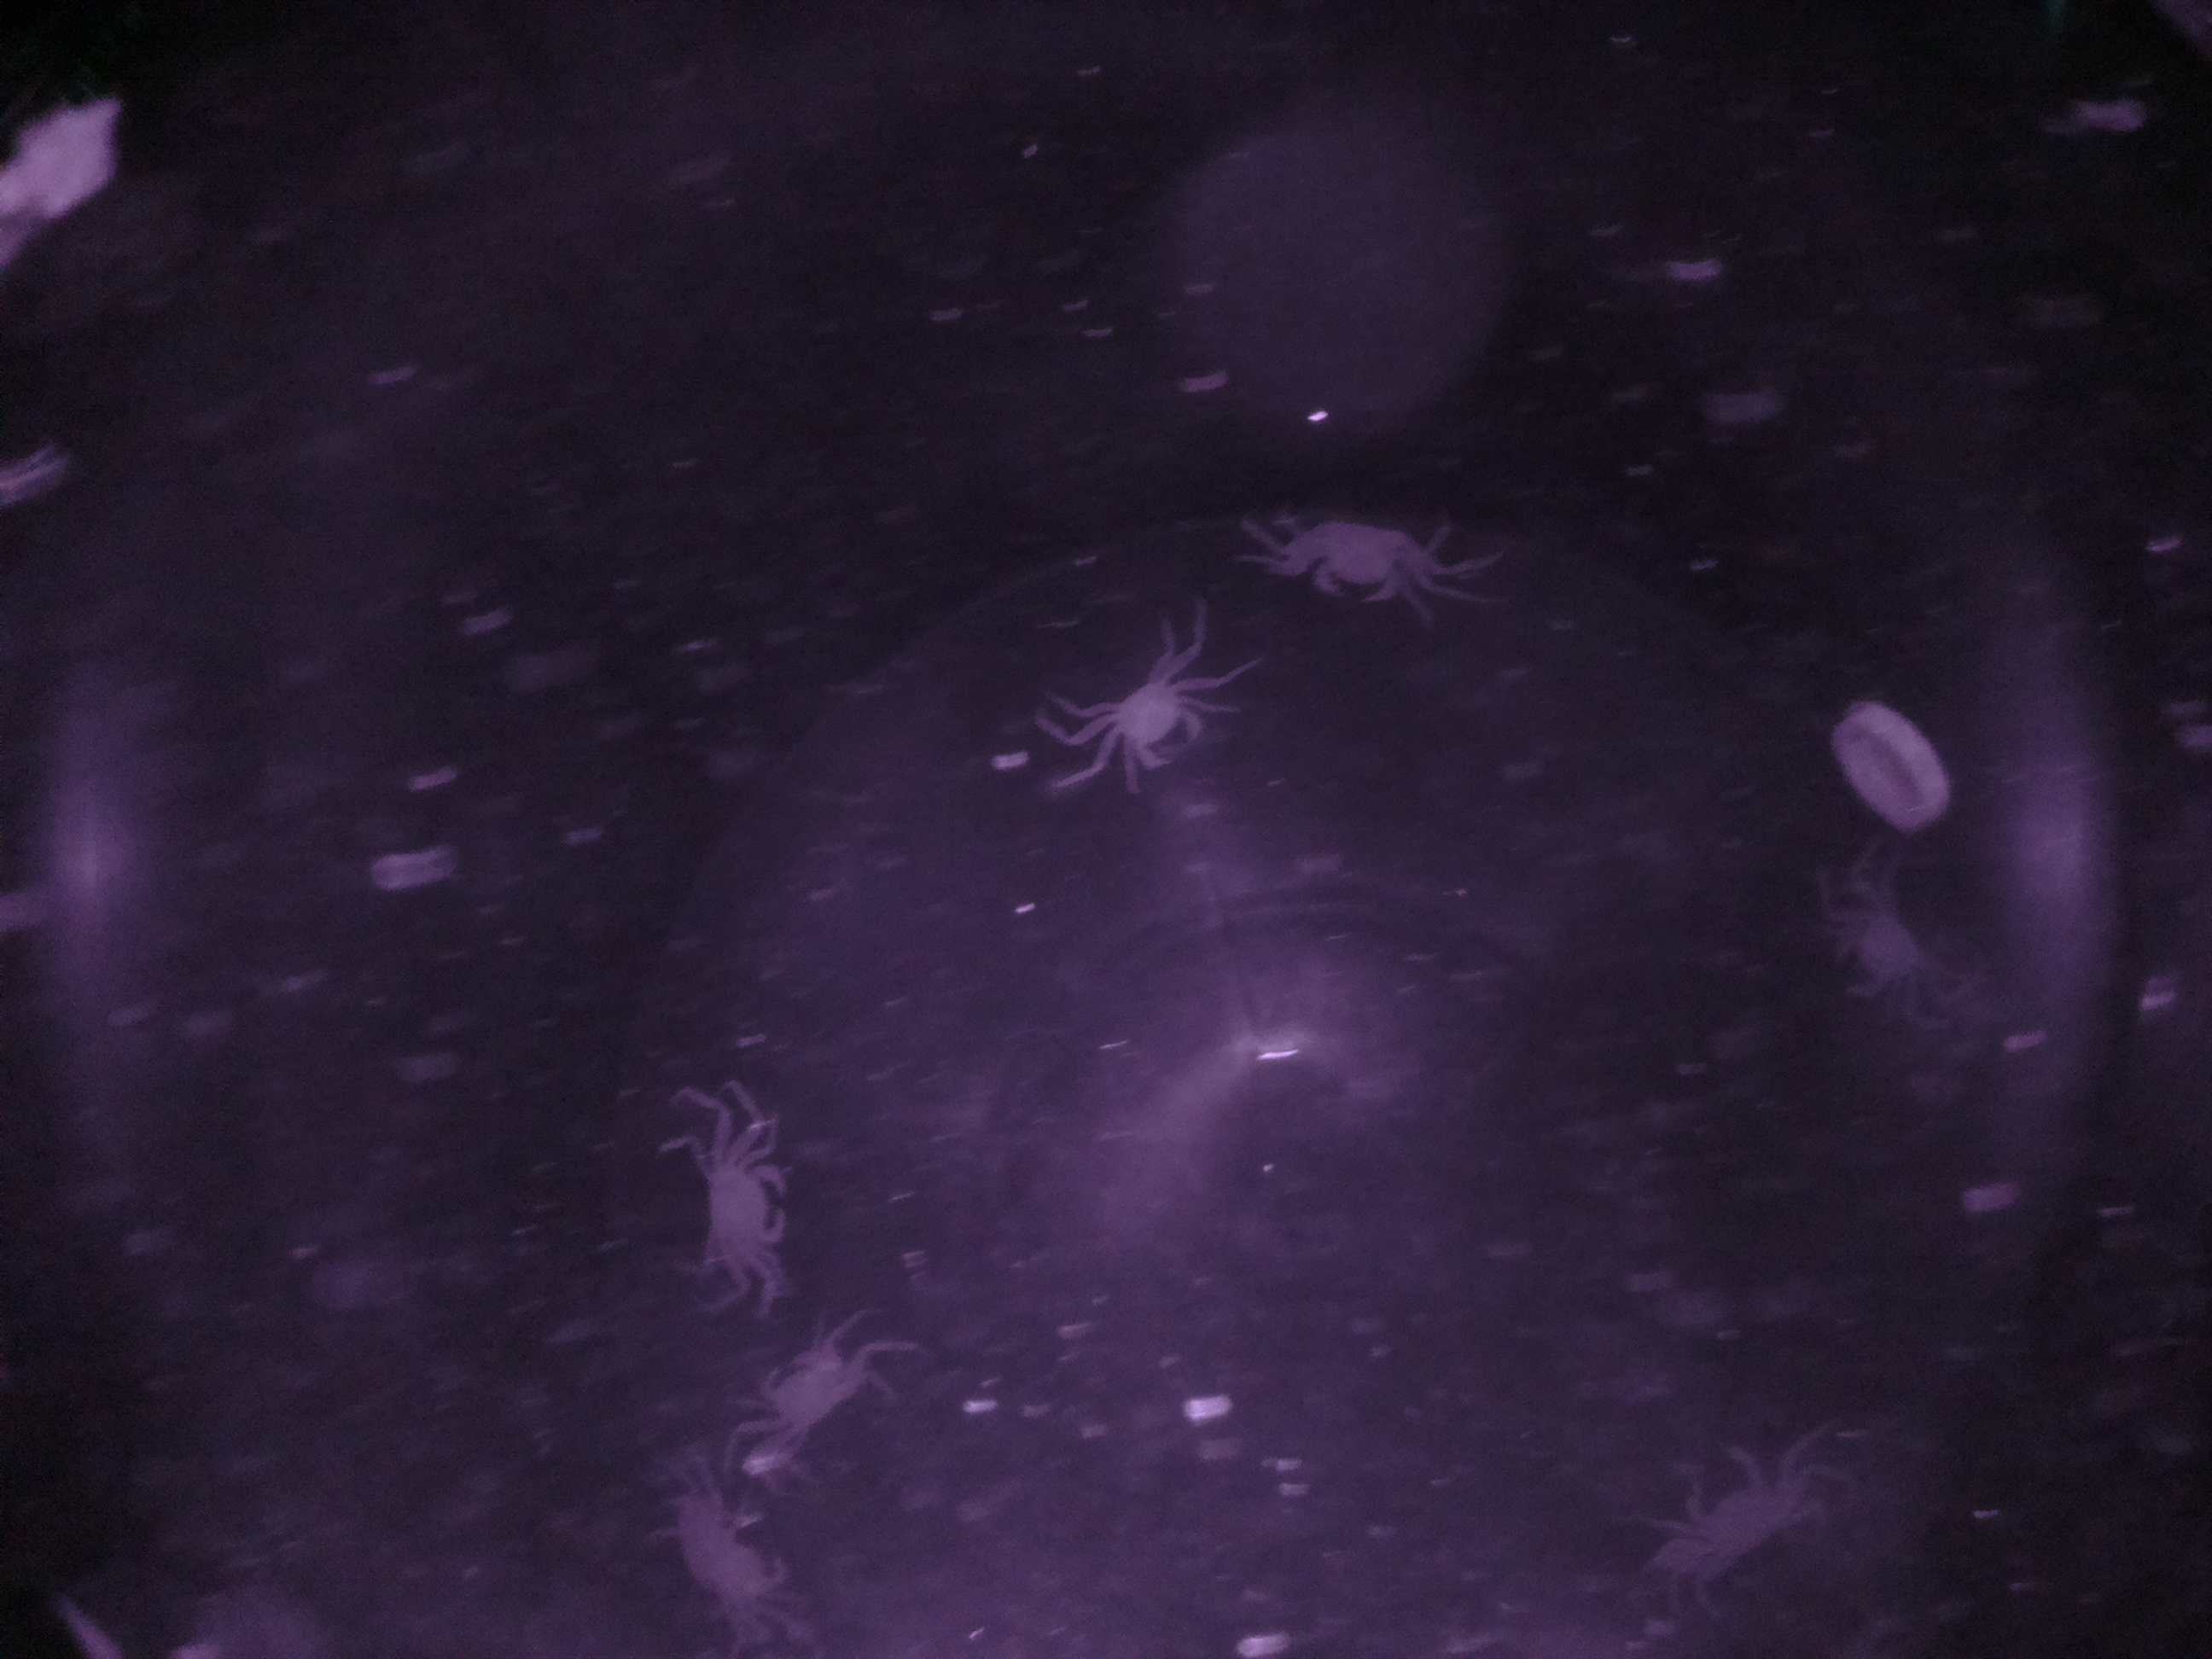Crab: (1663, 1432, 1808, 1591), (1083, 655, 1224, 788), (1282, 507, 1416, 627), (690, 1138, 803, 1270), (735, 1337, 866, 1450)
